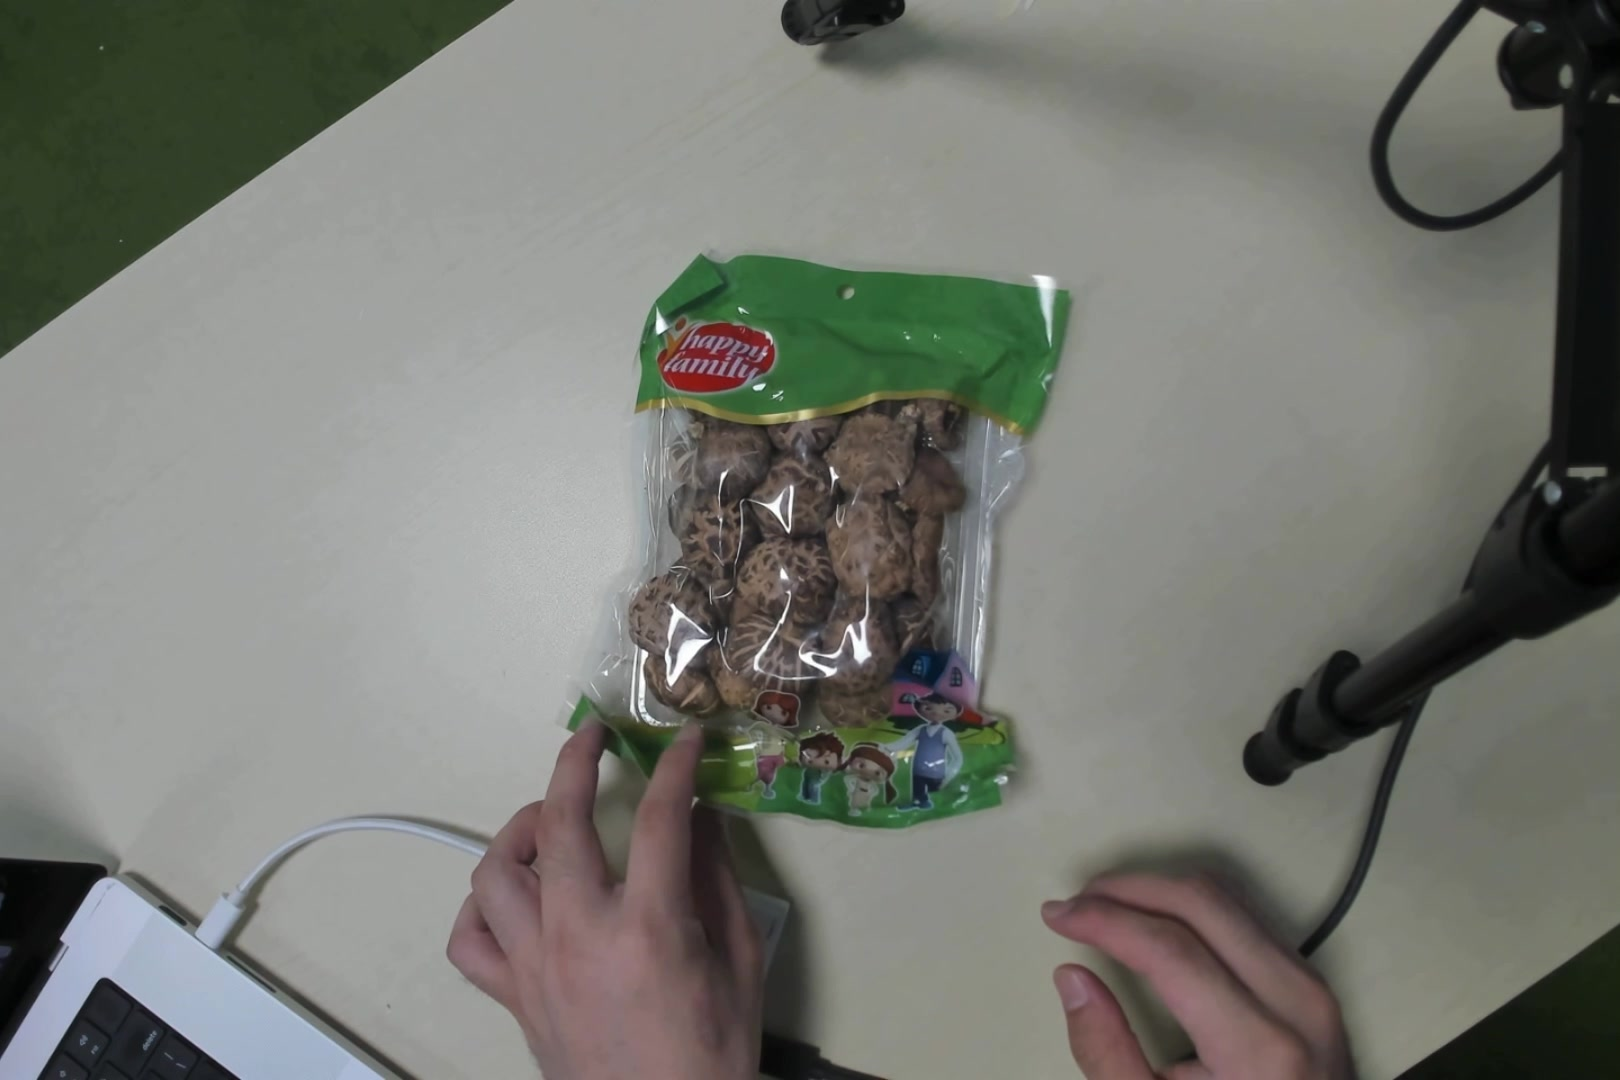OtherDriedFood_100-199g_NonHalal_NonHealthy: (630, 237, 999, 828)
